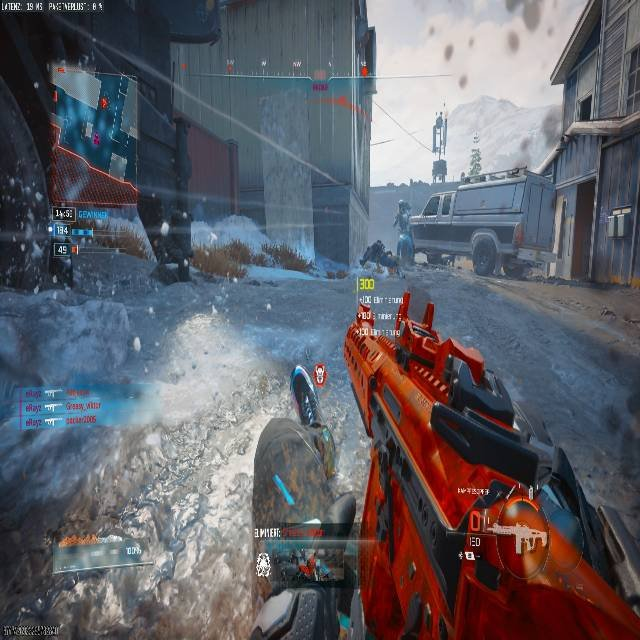player: (307, 552, 317, 577)
